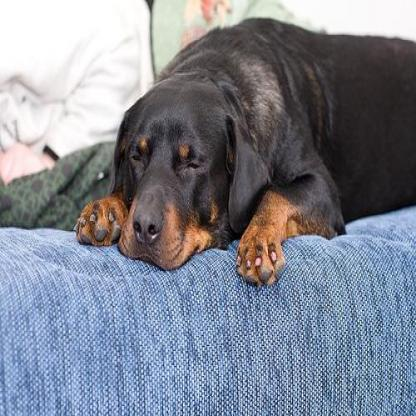Rottweiler: (72, 17, 414, 282)
